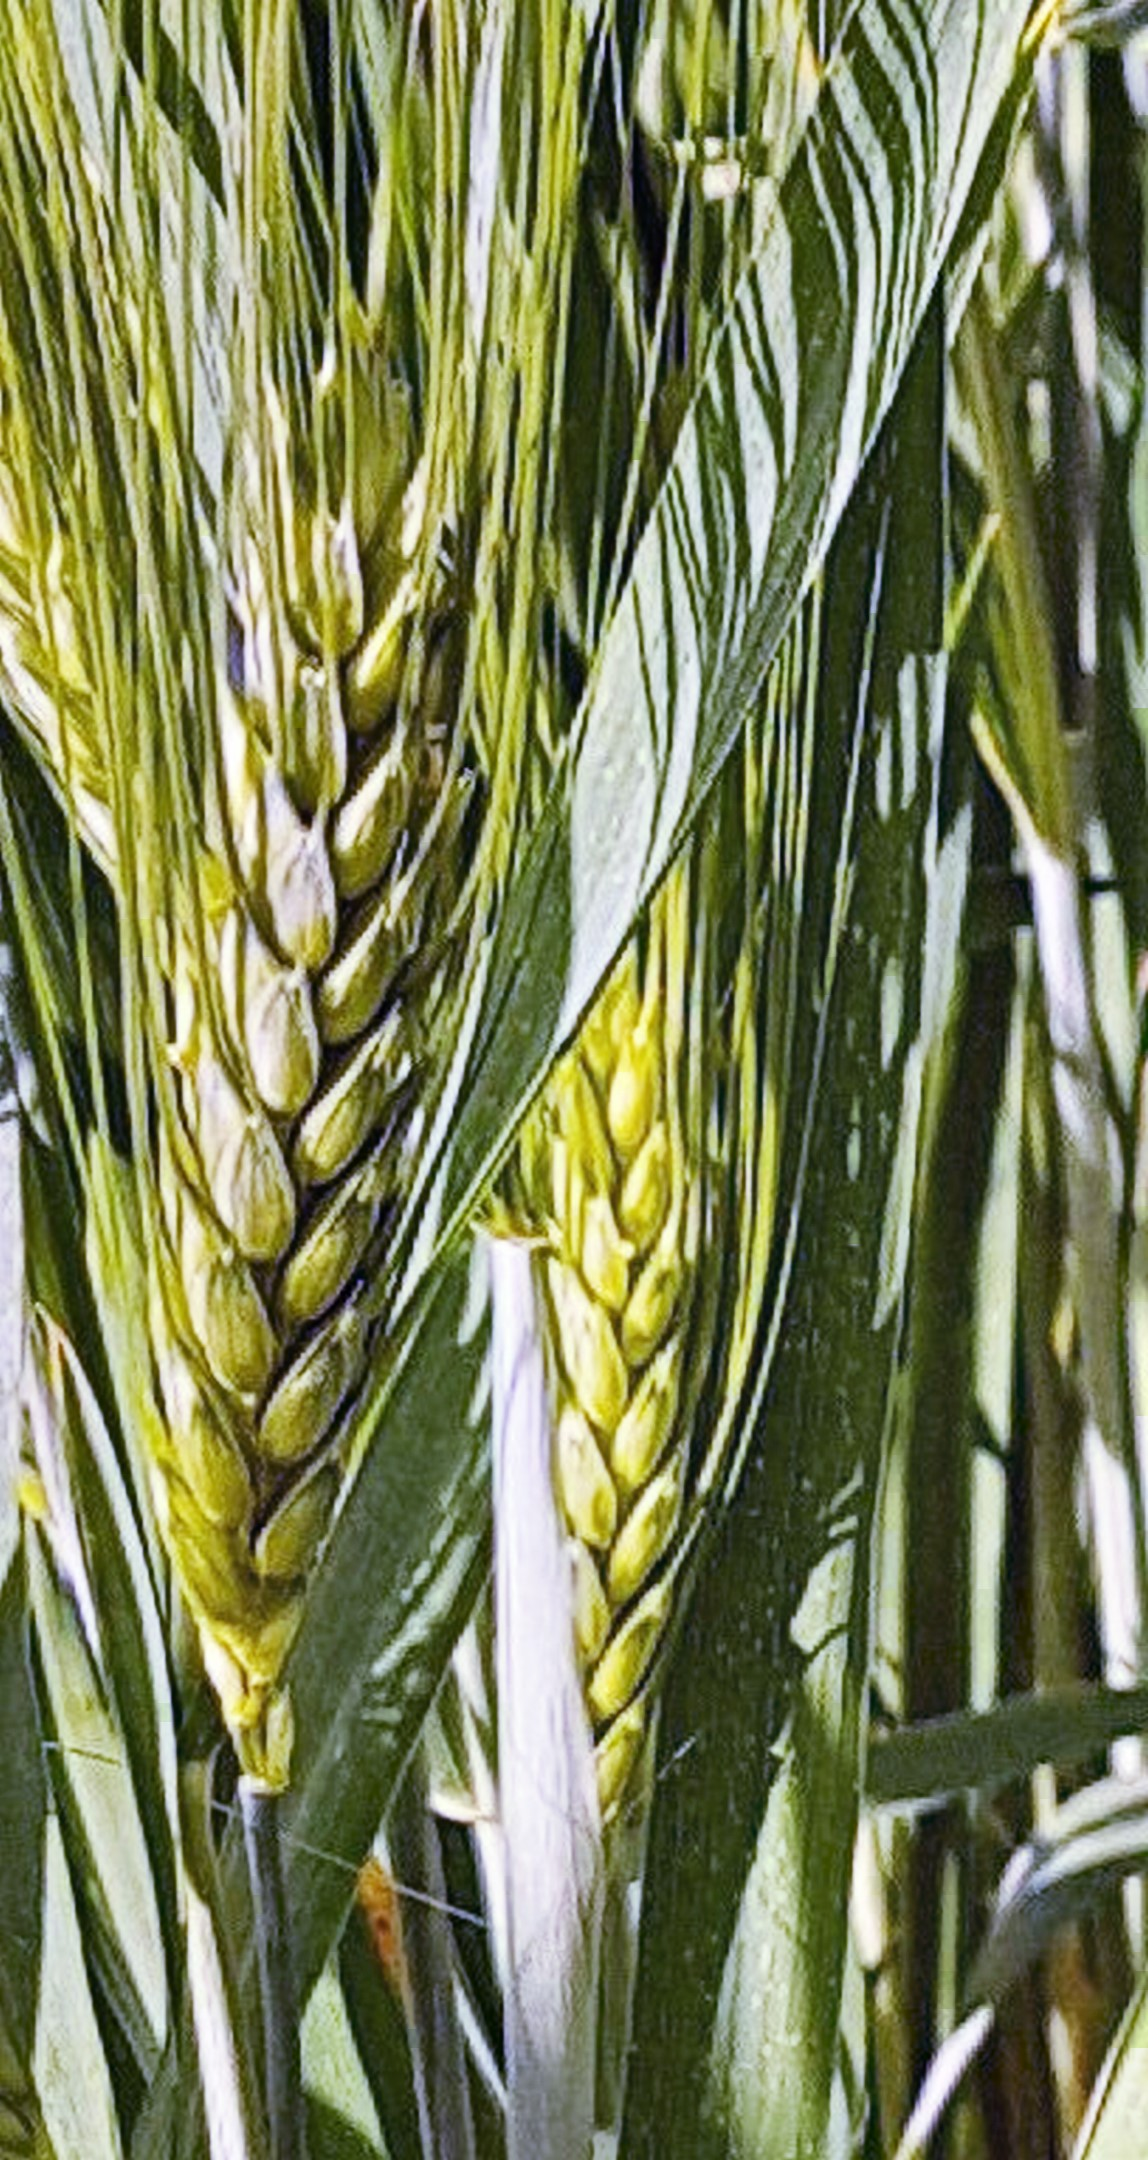Healthy Wheat: (166, 459, 458, 1777)
